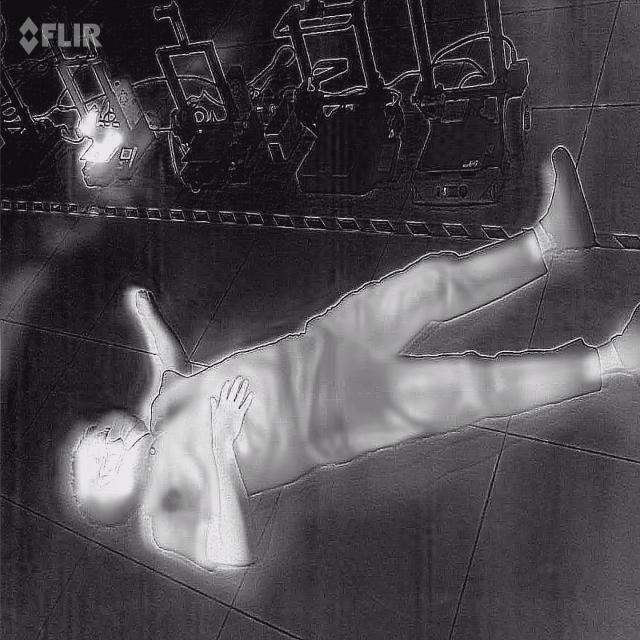Victim: (61, 136, 639, 585)
